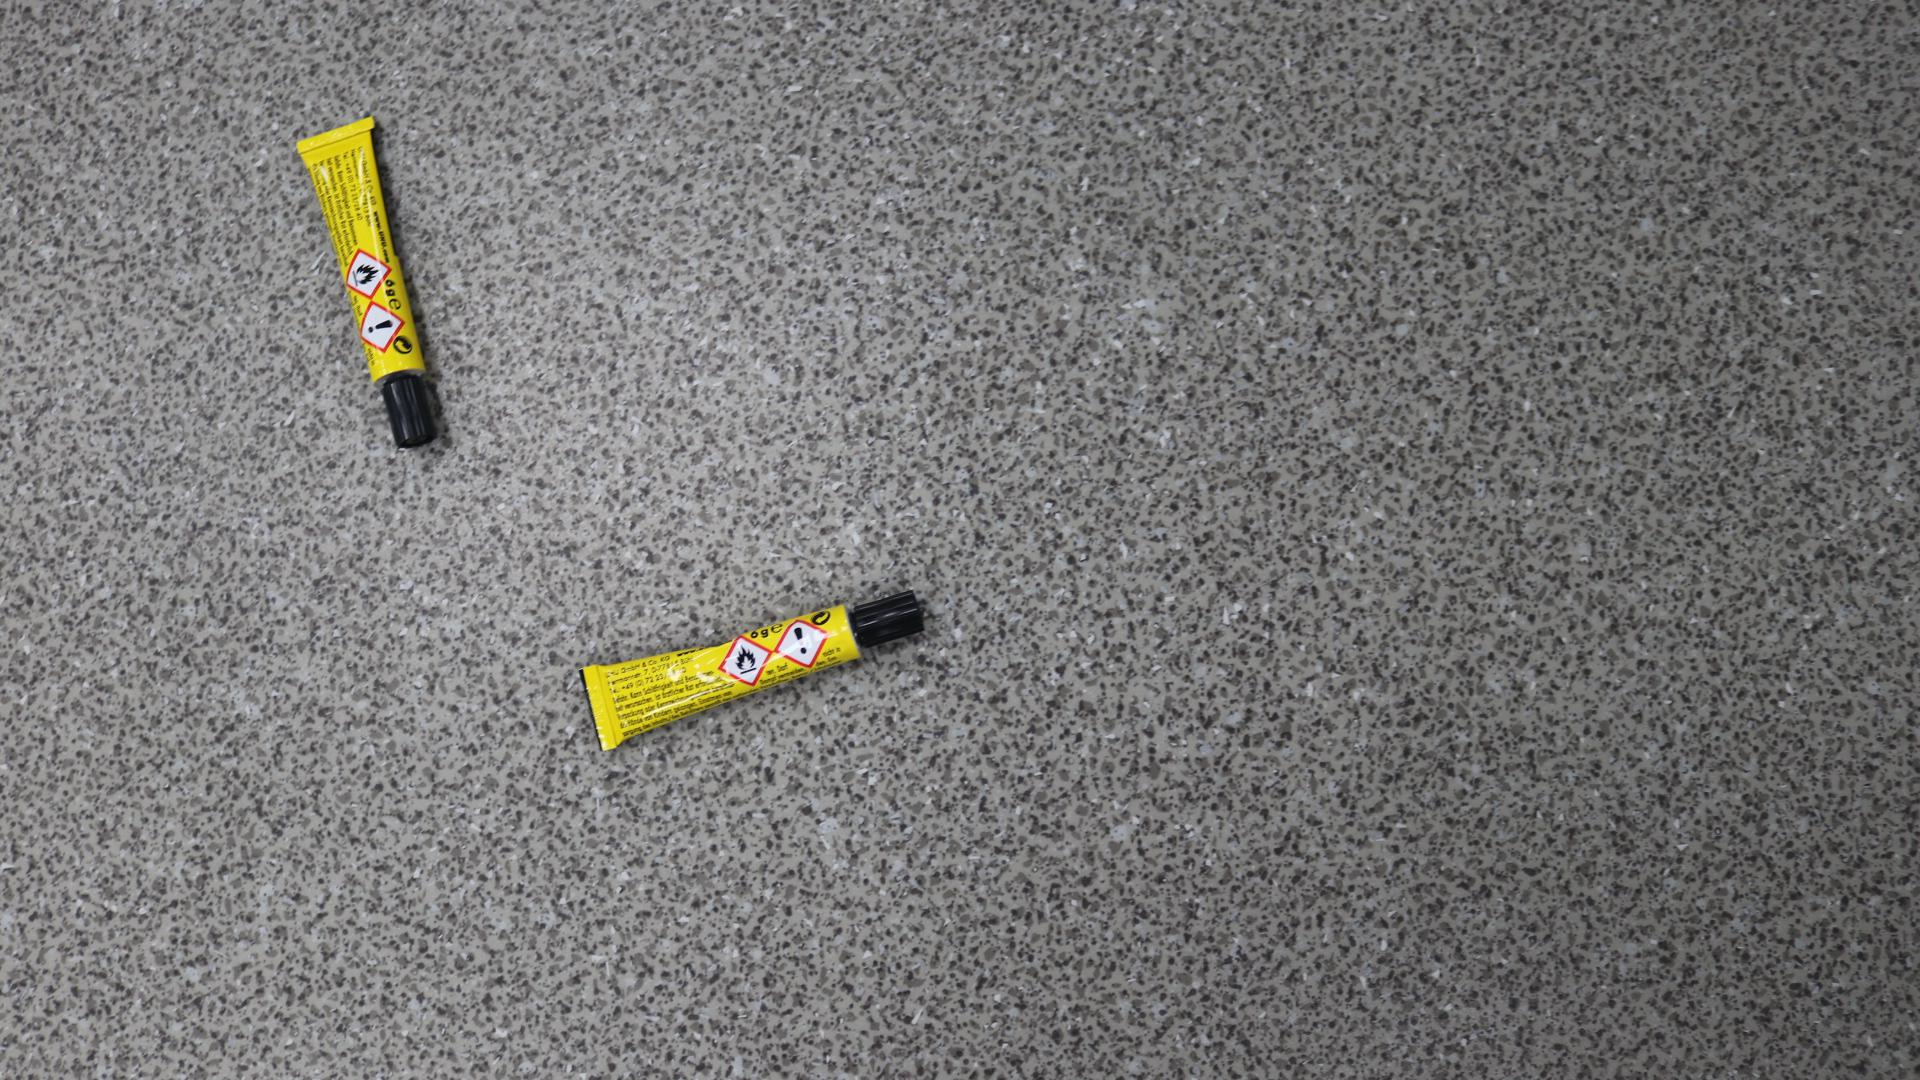Head: (883, 612, 890, 619), (406, 405, 409, 409)
Tail: (329, 135, 334, 140), (597, 706, 602, 711)
Tube: (577, 589, 925, 751), (296, 116, 437, 449)
